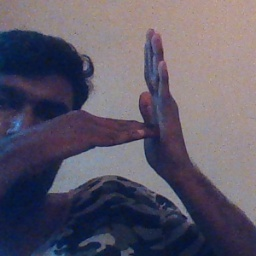Z: (91, 29, 191, 180)
